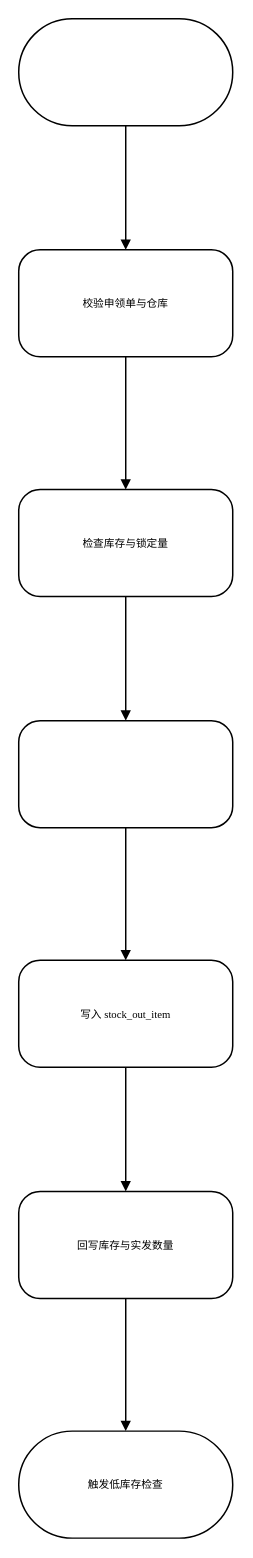
Image size: 253x1558. Some labels were removed from this diagram. Here are the shapes that lost their labels. From the top down, the box of each, then its label:
(17, 17, 233, 126): 创建出库请求
(17, 719, 233, 828): 按 expire_date 批次扣减
